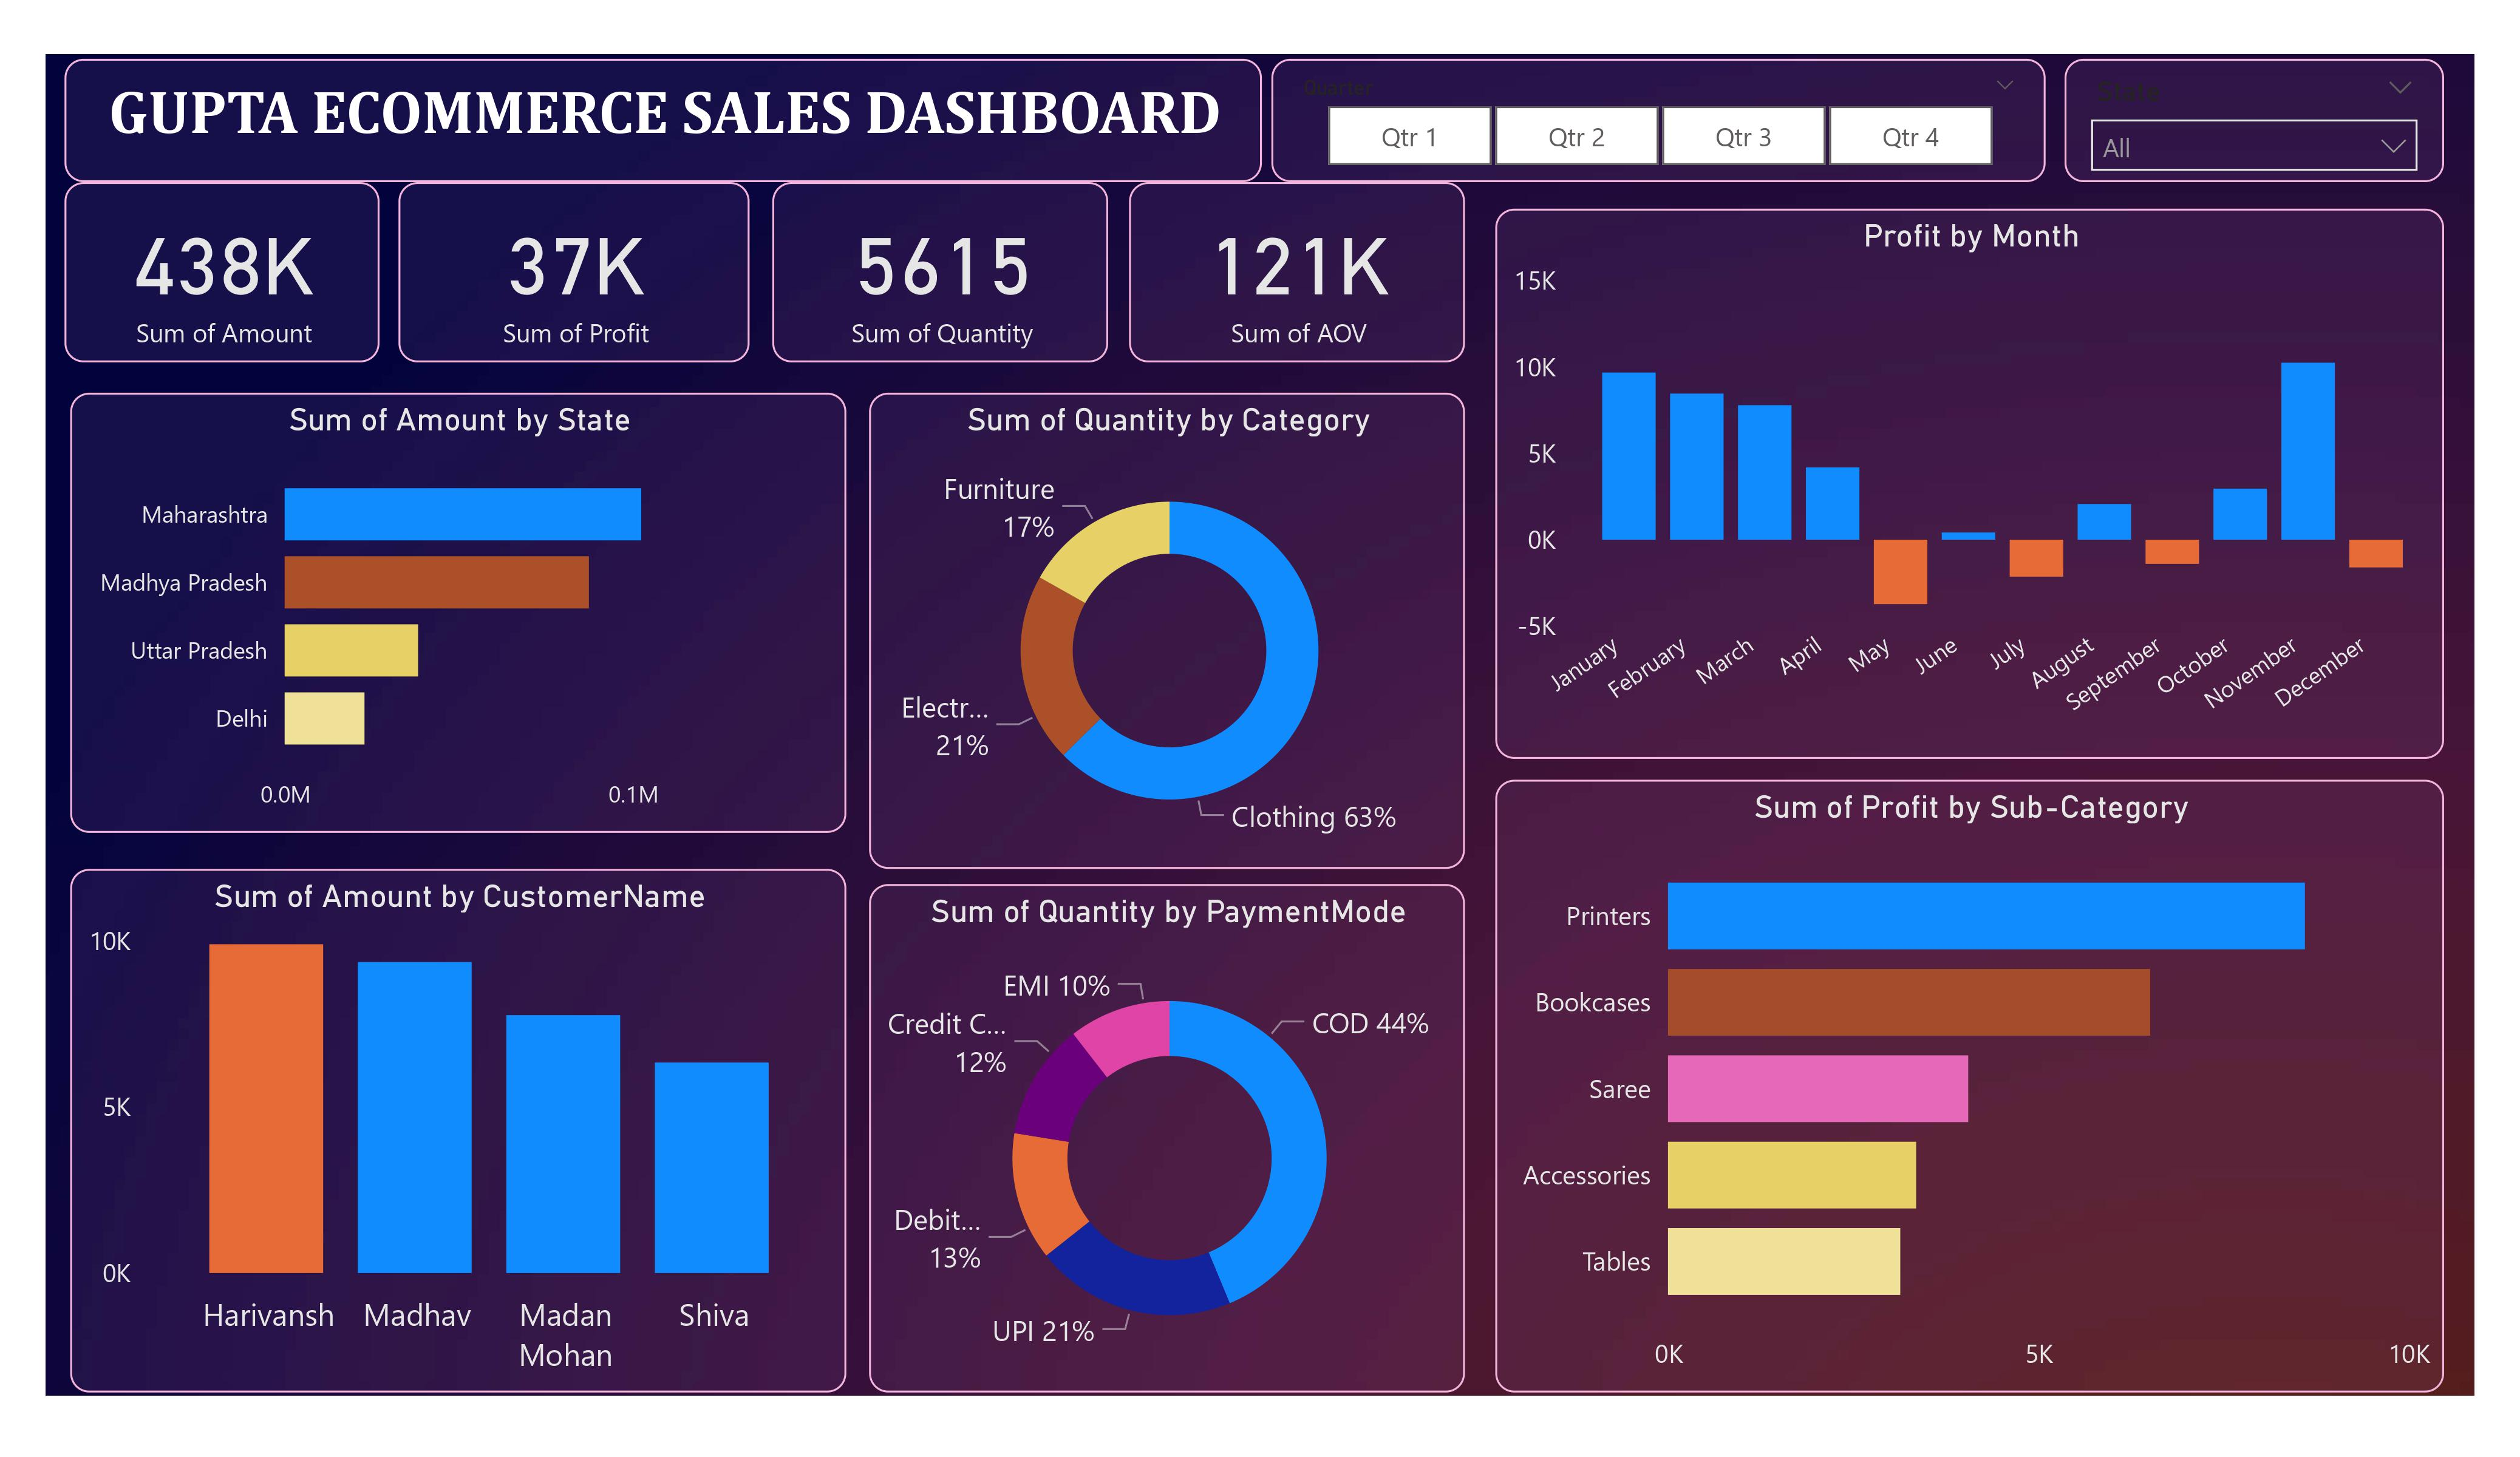

Layout of this report page (visuals, bound fields, positions):
{"tool":"powerbi","page":{"name":"Page 1","canvas":[1280,720],"ordinal":0},"visuals":[{"type":"textbox","box":[9.9,7.1,630.7,65.2],"z":0},{"type":"columnChart","title":"Profit by Month","fields":{"Category":["Orders.Order Date.Variation.Date Hierarchy.Month"],"Y":["Details.Profit"]},"box":[763.9,86.5,500.3,289.1],"z":1000},{"type":"barChart","fields":{"Category":["Details.Sub-Category"],"Y":["Details.Profit"]},"box":[763.9,386.9,500.3,323.1],"z":2000},{"type":"donutChart","fields":{"Category":["Details.Category"],"Y":["Details.Quantity"]},"box":[433.7,182.8,314.6,250.9],"z":3000},{"type":"donutChart","fields":{"Y":["Details.Quantity"],"Category":["Details.PaymentMode"]},"box":[433.7,442.2,314.6,267.9],"z":4000},{"type":"card","fields":{"Values":["Details.Amount"]},"box":[9.9,72.3,165.8,95],"z":5000},{"type":"card","fields":{"Values":["Details.Quantity"]},"box":[382.7,72.3,177.2,95],"z":6000},{"type":"card","fields":{"Values":["Details.Profit"]},"box":[185.7,72.3,185.7,95],"z":7000},{"type":"card","fields":{"Values":["Details.AOV"]},"box":[571.2,72.3,177.2,95],"z":8000},{"type":"barChart","fields":{"Y":["Details.Amount"],"Category":["Orders.State"]},"box":[12.8,182.8,409.6,232.4],"z":9000},{"type":"columnChart","fields":{"Category":["Orders.CustomerName"],"Y":["Details.Amount"]},"box":[12.8,433.7,409.6,276.4],"z":10000},{"type":"slicer","fields":{"Values":["Orders.Order Date.Variation.Date Hierarchy.Quarter"]},"box":[646.3,7.1,408.2,65.2],"z":11000},{"type":"slicer","fields":{"Values":["Orders.State"]},"box":[1064.4,7.1,199.8,65.2],"z":12000}]}

Visuals, with their boxes on the page's 1280x720 design canvas (x1, y1, x2, y2). These are canvas units, not pixel positions in the 2520x1457 screenshot, which may show the page scaled, cropped or inside an application window:
textbox: x1=10 y1=7 x2=641 y2=72
"Profit by Month" columnChart: x1=764 y1=86 x2=1264 y2=376
barChart - Details.Sub-Category x Details.Profit: x1=764 y1=387 x2=1264 y2=710
donutChart - Details.Category x Details.Quantity: x1=434 y1=183 x2=748 y2=434
donutChart - Details.Quantity x Details.PaymentMode: x1=434 y1=442 x2=748 y2=710
card - Details.Amount: x1=10 y1=72 x2=176 y2=167
card - Details.Quantity: x1=383 y1=72 x2=560 y2=167
card - Details.Profit: x1=186 y1=72 x2=371 y2=167
card - Details.AOV: x1=571 y1=72 x2=748 y2=167
barChart - Details.Amount x Orders.State: x1=13 y1=183 x2=422 y2=415
columnChart - Orders.CustomerName x Details.Amount: x1=13 y1=434 x2=422 y2=710
slicer - Orders.Order Date.Variation.Date Hierarchy.Quarter: x1=646 y1=7 x2=1054 y2=72
slicer - Orders.State: x1=1064 y1=7 x2=1264 y2=72
